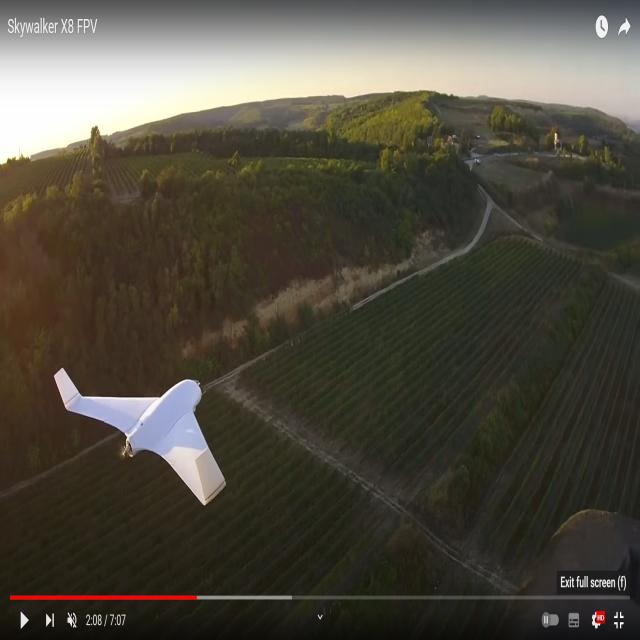iha: (48, 367, 220, 500)
